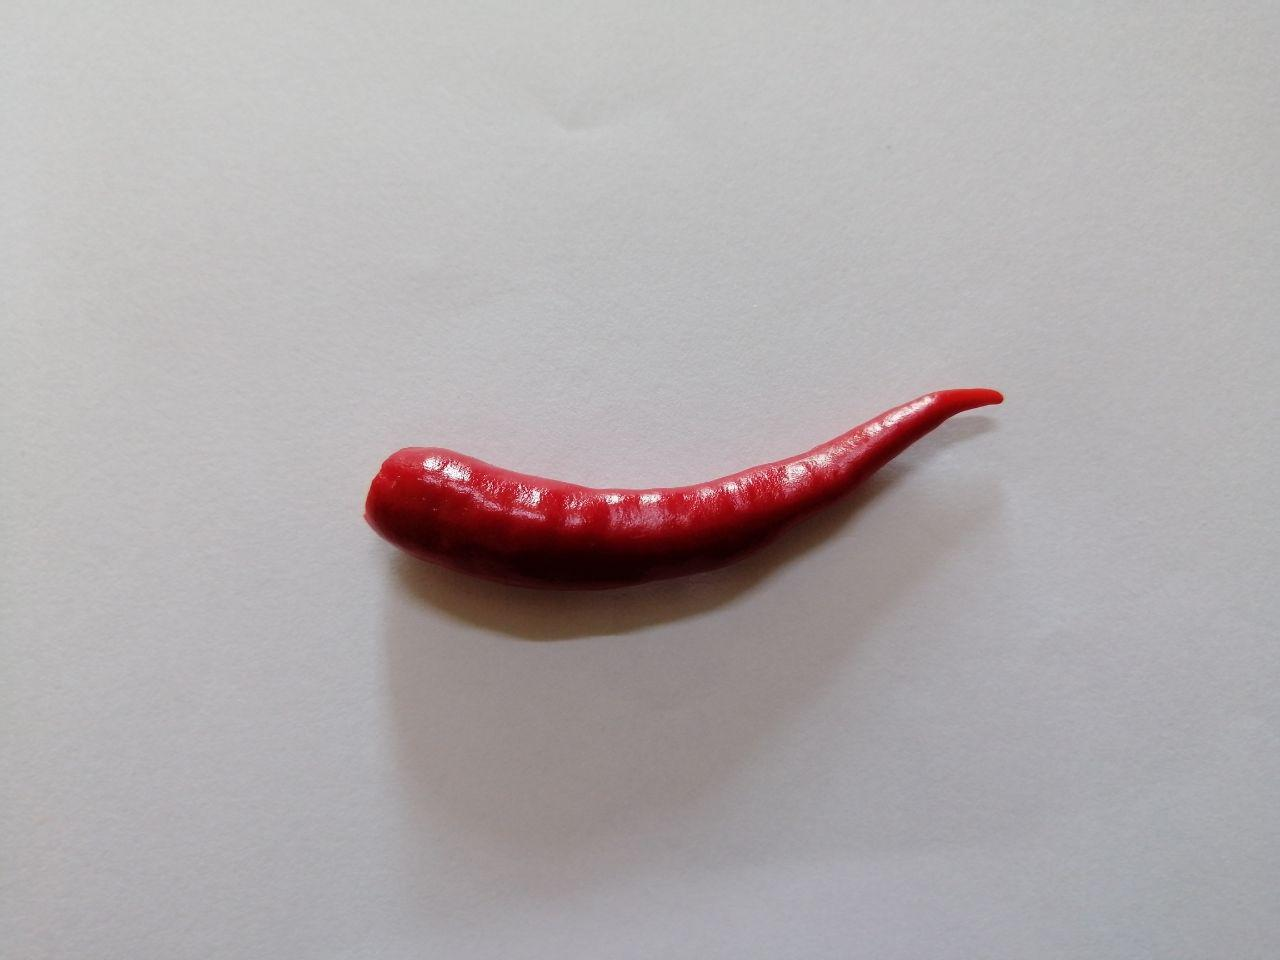lada merah: (347, 353, 1003, 627)
